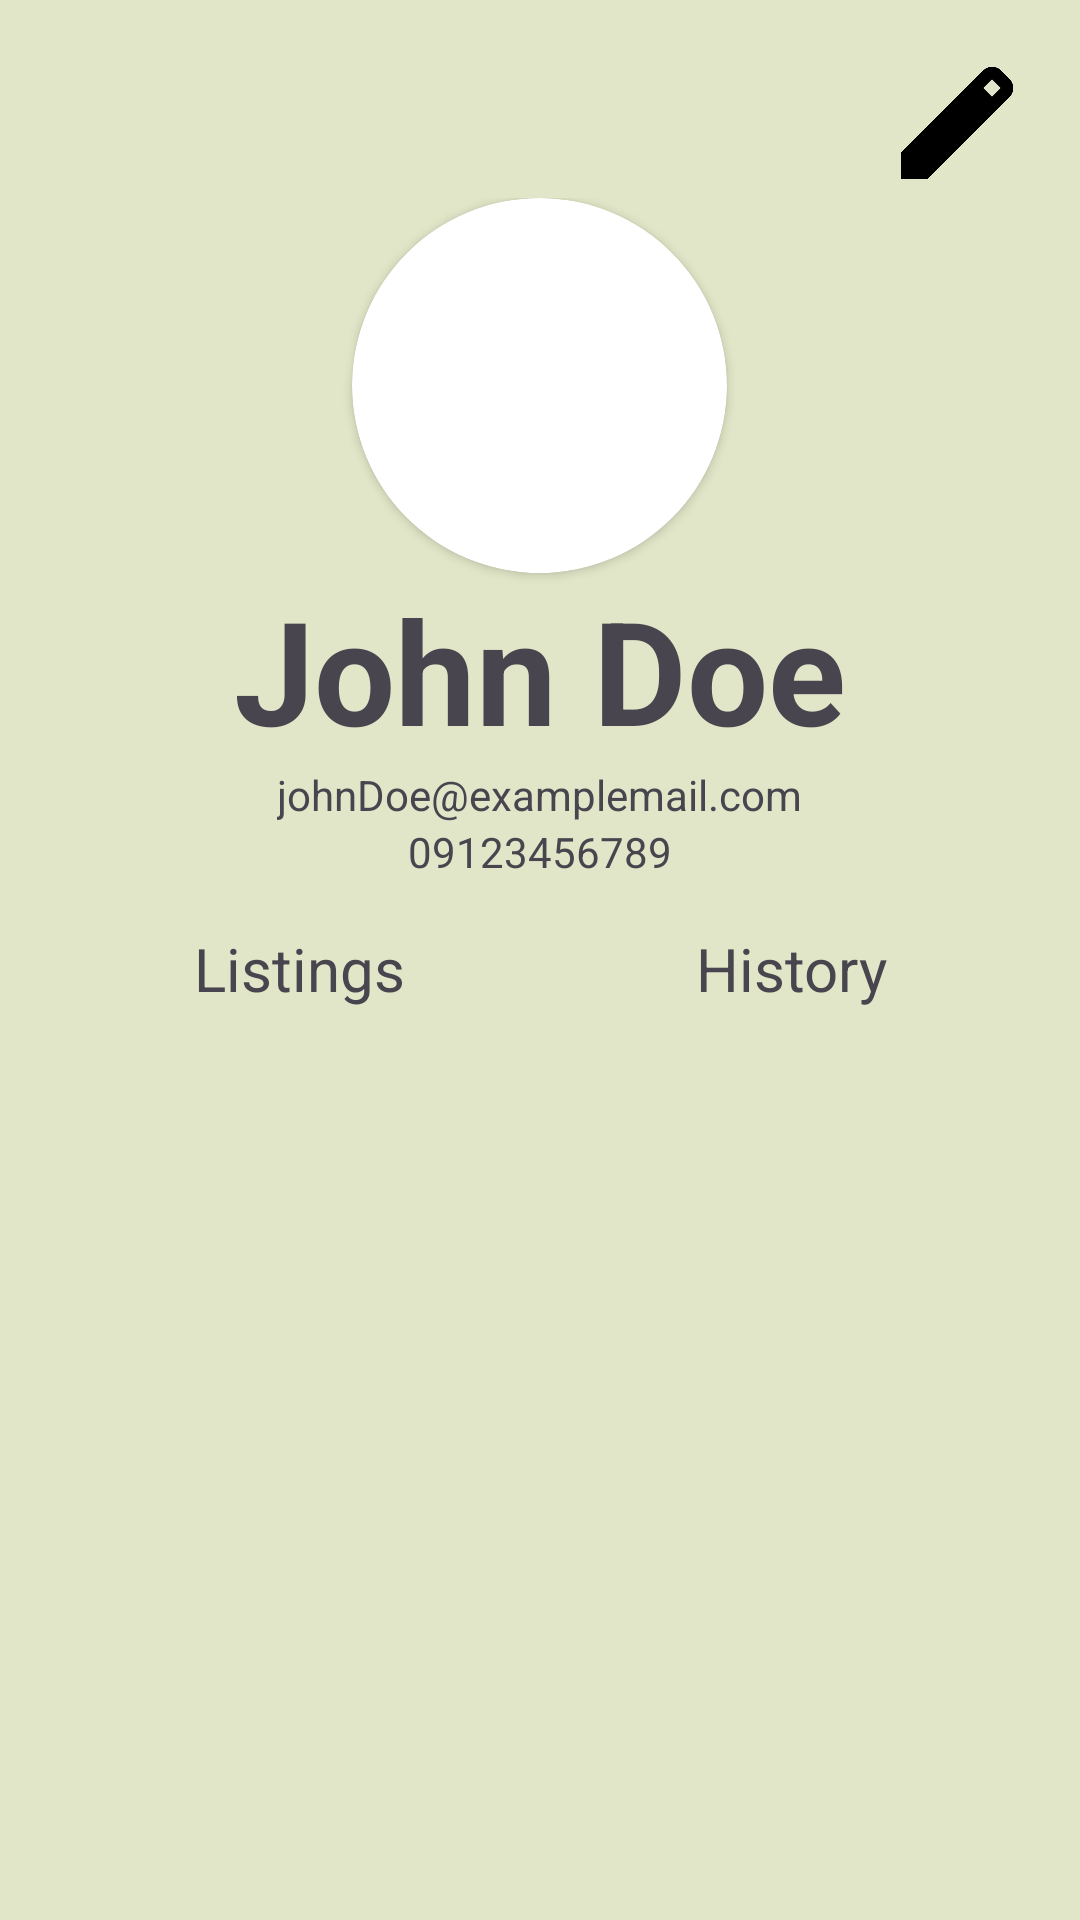

Locate icon controls on the screen. Image size 1080x1920, boxes as (x1, y1, x2, y2).
edit: (901, 67, 1013, 179)
